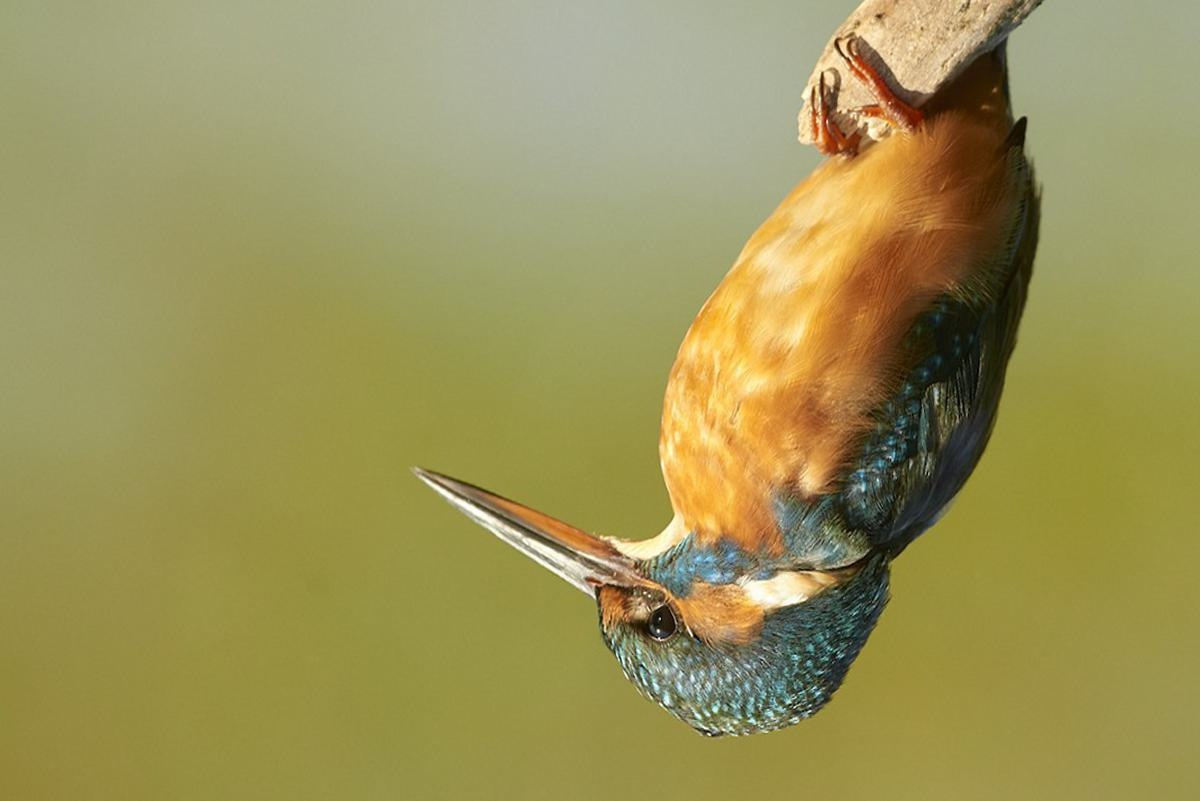kingfisher: (402, 53, 1103, 724)
